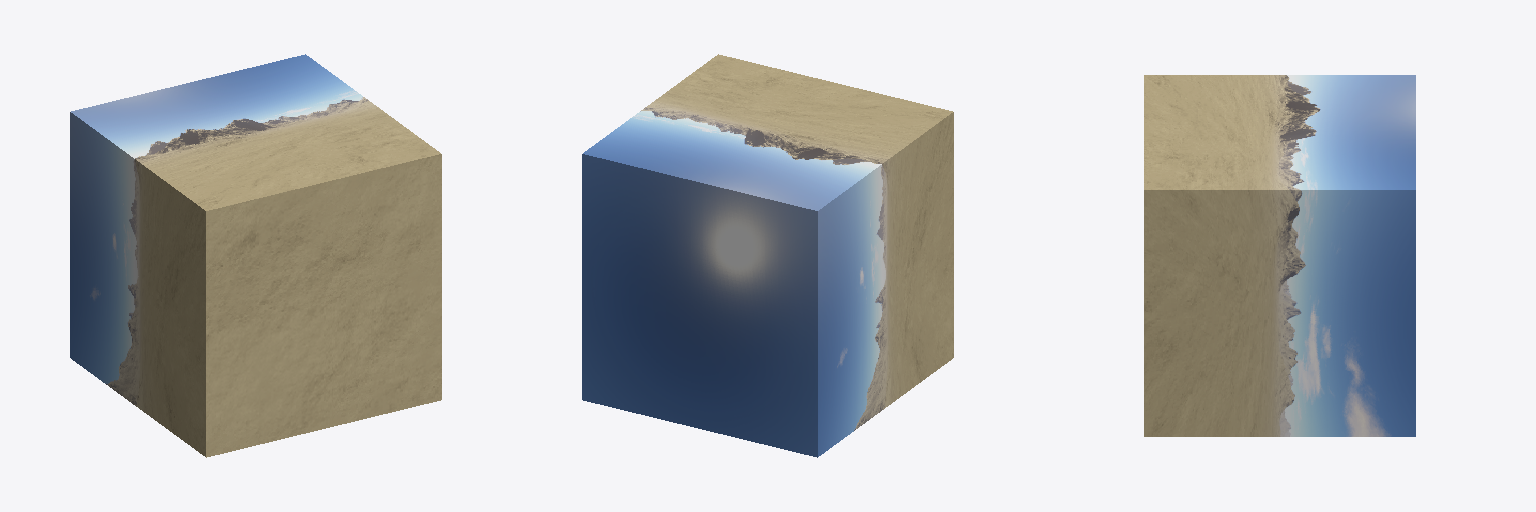
The picture shows the model from 3 angles: view 1: azimuth 30°, elevation 25°; view 2: azimuth 150°, elevation 25°; view 3: azimuth 270°, elevation 25°; orthographic projection.
Parts seen in each view (by area): view 1: cube; view 2: cube; view 3: cube.
Part boxes in pixels (left/top/right/bottom): cube: left=70, top=54, right=441, bottom=457; cube: left=582, top=54, right=953, bottom=457; cube: left=1144, top=75, right=1415, bottom=436.
Size of the model in its own units: 50 by 50 by 50.
1 materials, 1 textured.